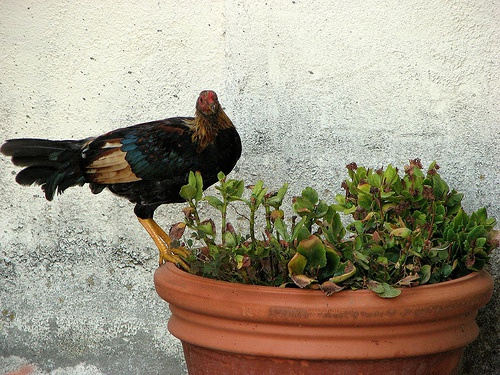flowerpot: (160, 238, 496, 375)
